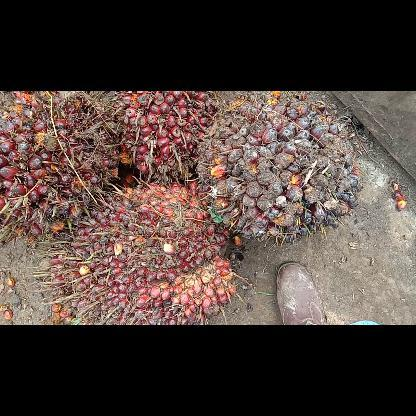Kurang masak: (194, 95, 364, 245)
TBS masak: (42, 178, 240, 324), (0, 91, 124, 247), (104, 90, 218, 184)
